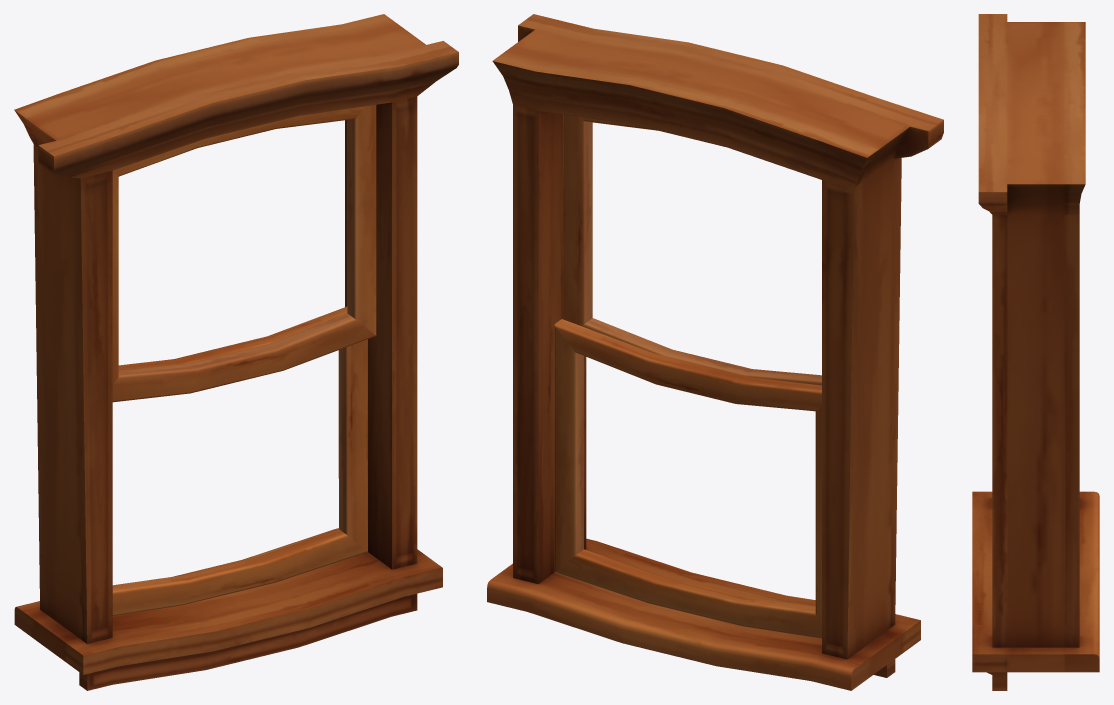
The model's file is PropWindow01TypeA_2_1.FBX.
3 views of the same model, side by side, from view 1: azimuth 30°, elevation 25°; view 2: azimuth 150°, elevation 25°; view 3: azimuth 270°, elevation 25° (orthographic). The views are drawn at different scales.
Visible parts, largest first — view 1: PropWindow01TypeA_2_1; view 2: PropWindow01TypeA_2_1; view 3: PropWindow01TypeA_2_1.
Part boxes in pixels (x1,y1,x2,y2): PropWindow01TypeA_2_1: (14,14,458,690); PropWindow01TypeA_2_1: (487,14,943,690); PropWindow01TypeA_2_1: (972,14,1099,690).
Size of what is drawn, in the model's own units: 1.51 by 2.04 by 0.4449.
